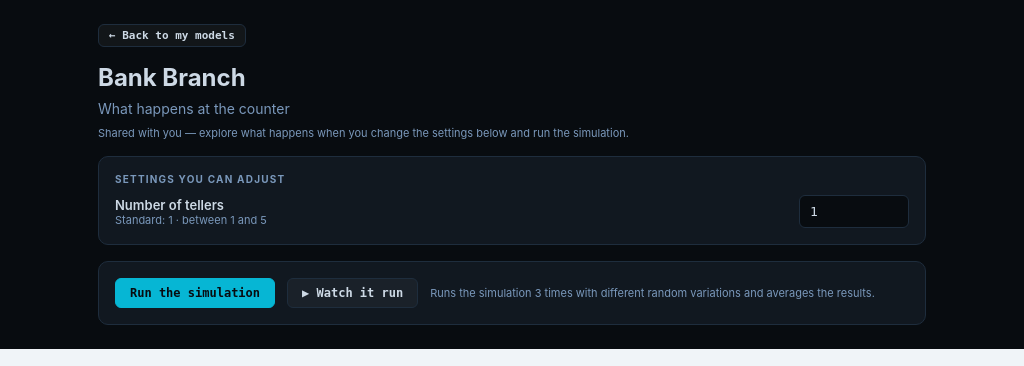
it: StakeholderView › clamps a knob to its curated bounds on blur
Replace the text in the number field named "Number of tellers" with "99" at point(854, 212), box x1=799 y1=195 x2=909 y2=228
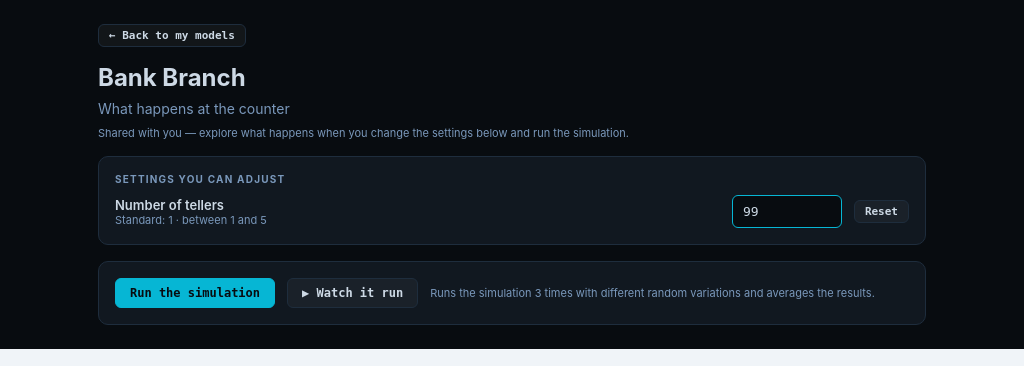
Leave the number field named "Number of tellers", box x1=732 y1=195 x2=842 y2=228
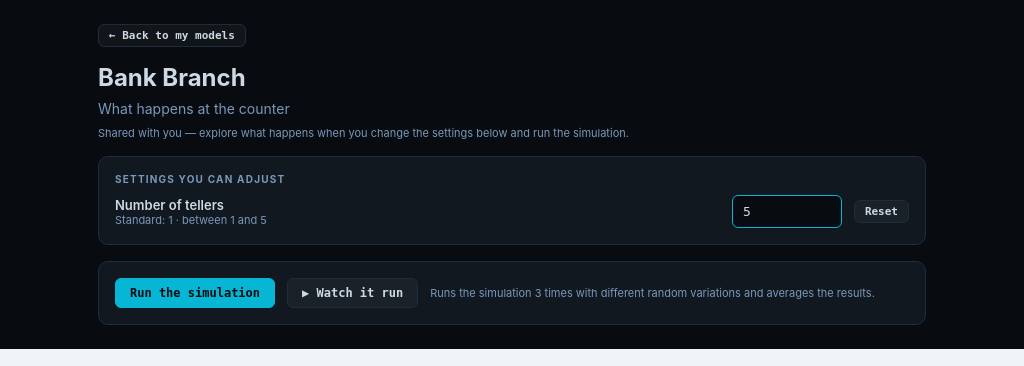
Result: the number field named "Number of tellers" holds "5"
Replace the text in the number field named "Number of tellers" with "0" at point(787, 212), box x1=732 y1=195 x2=842 y2=228
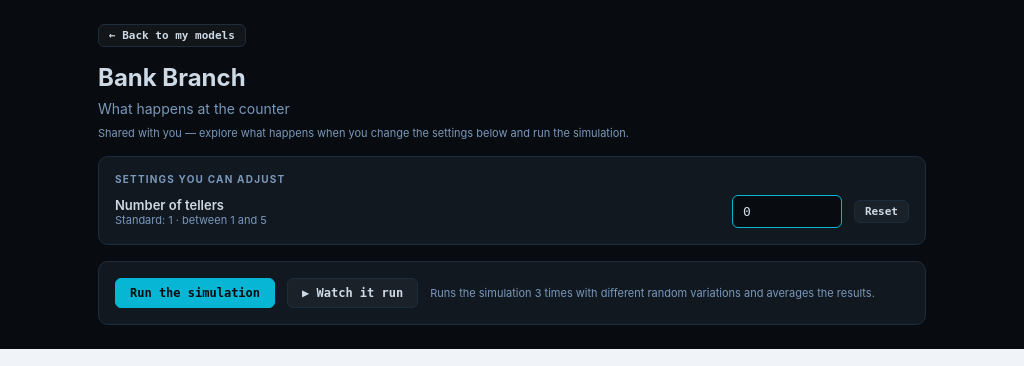
Leave the number field named "Number of tellers", box x1=732 y1=195 x2=842 y2=228
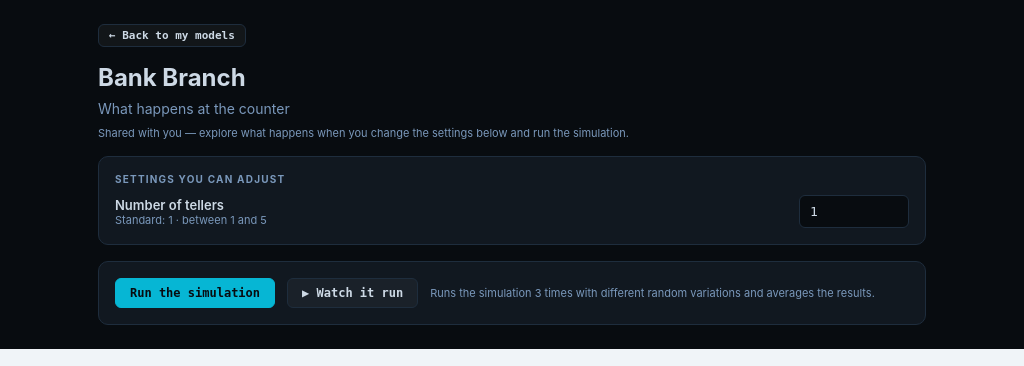
Result: the number field named "Number of tellers" holds "1" at x1=799 y1=195 x2=909 y2=228
